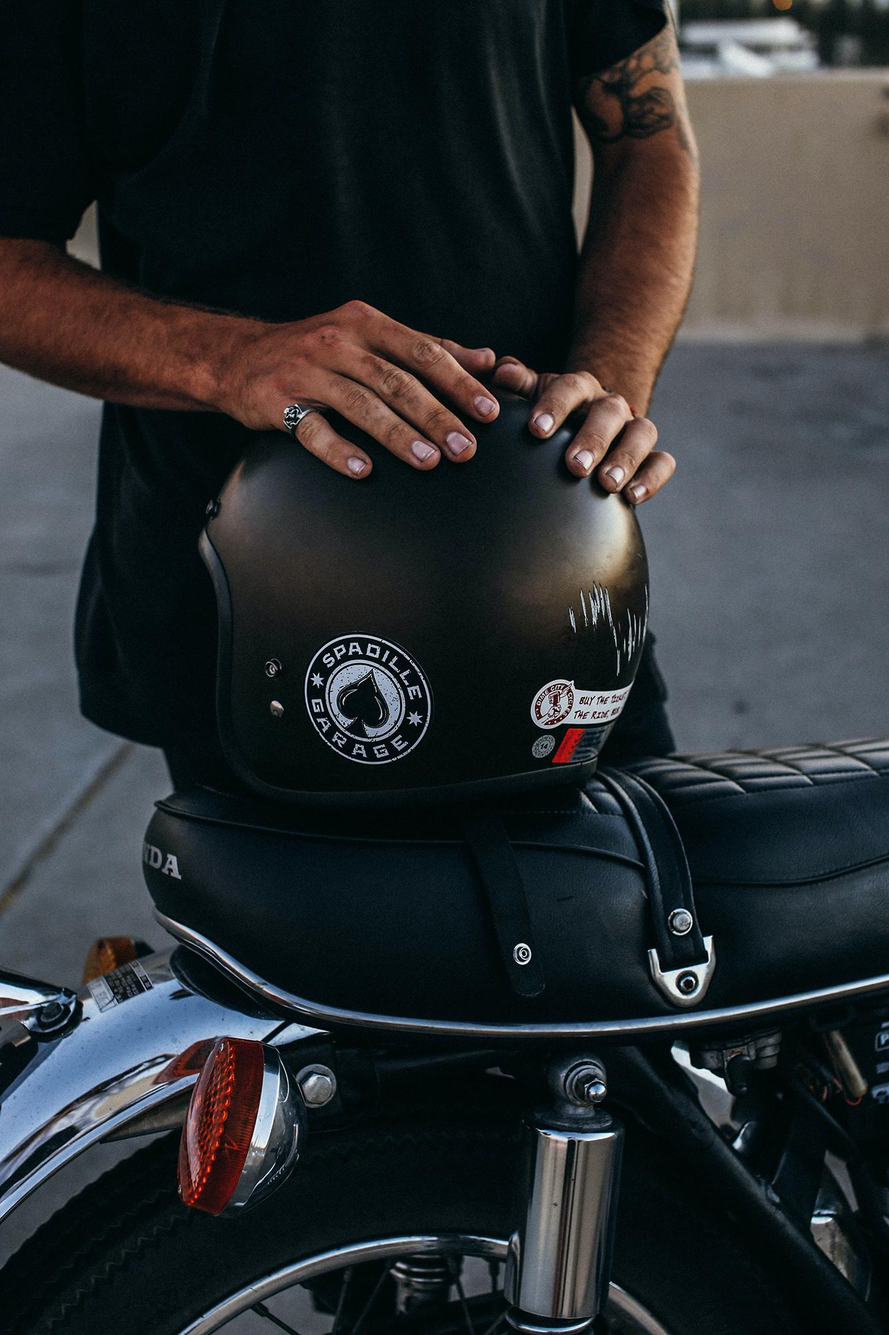helmet: (194, 376, 653, 816)
